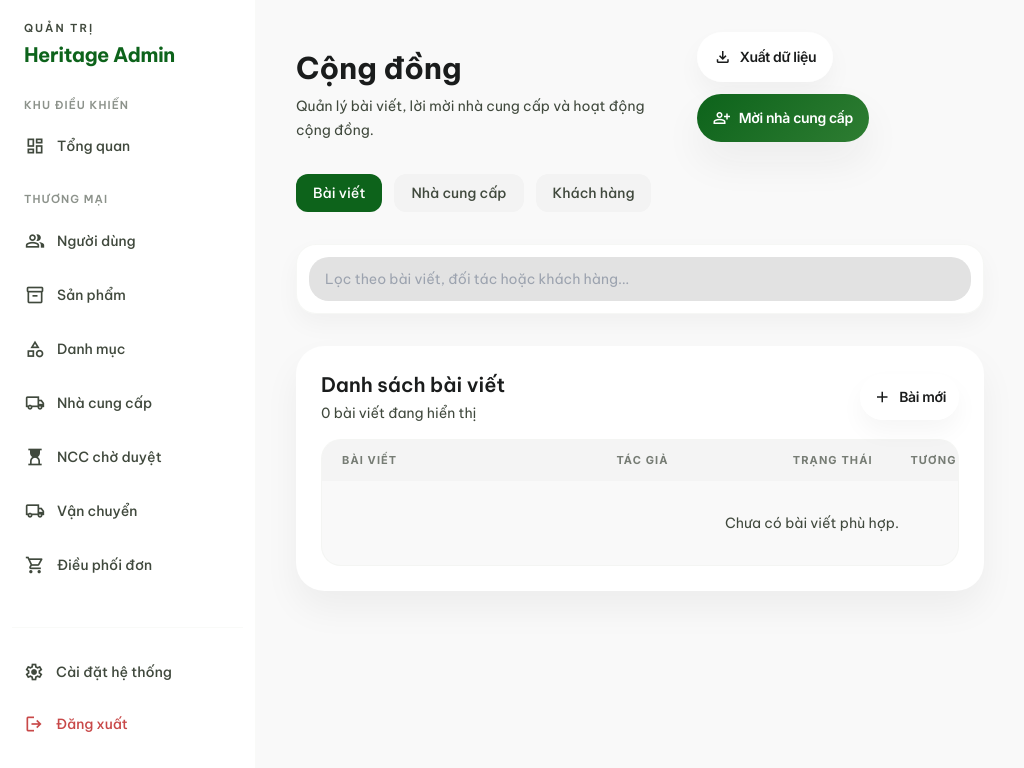
Test case: customer commerce routes › lets an admin create a post from the community page
The width and height of the screenshot is (1024, 768).
Expected: the heading "Danh sách bài viết" is shown, [321,371,505,399]
Click the button "Bài mới" at (910, 397), box [860,374,959,420]
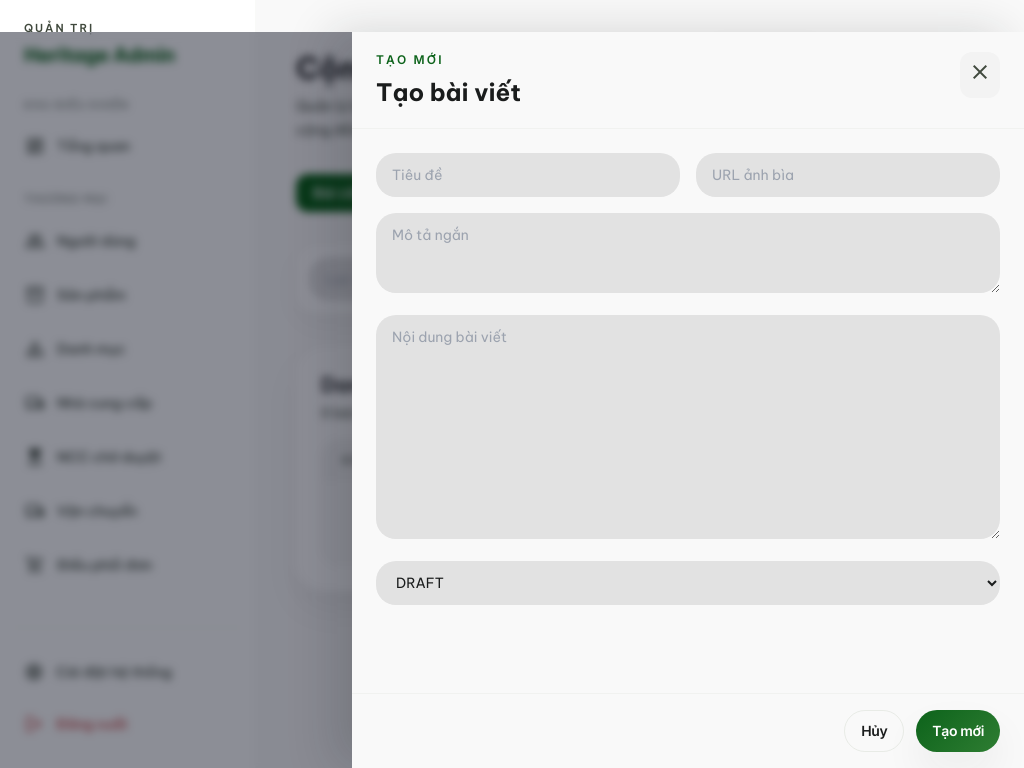
Type "Bài viết admin mới" into the field with placeholder "Tiêu đề" at (528, 175), box [376,153,680,197]
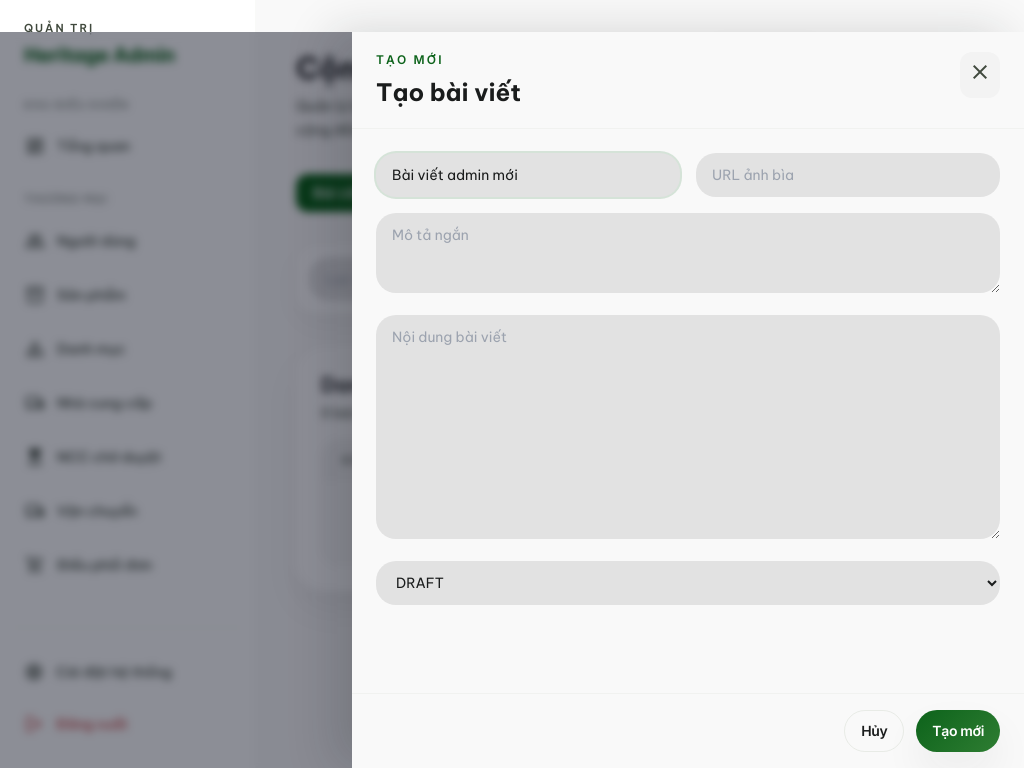
Type "Nội dung từ admin." into the text box with placeholder "Nội dung bài viết" at (688, 427), box [376,315,1000,539]
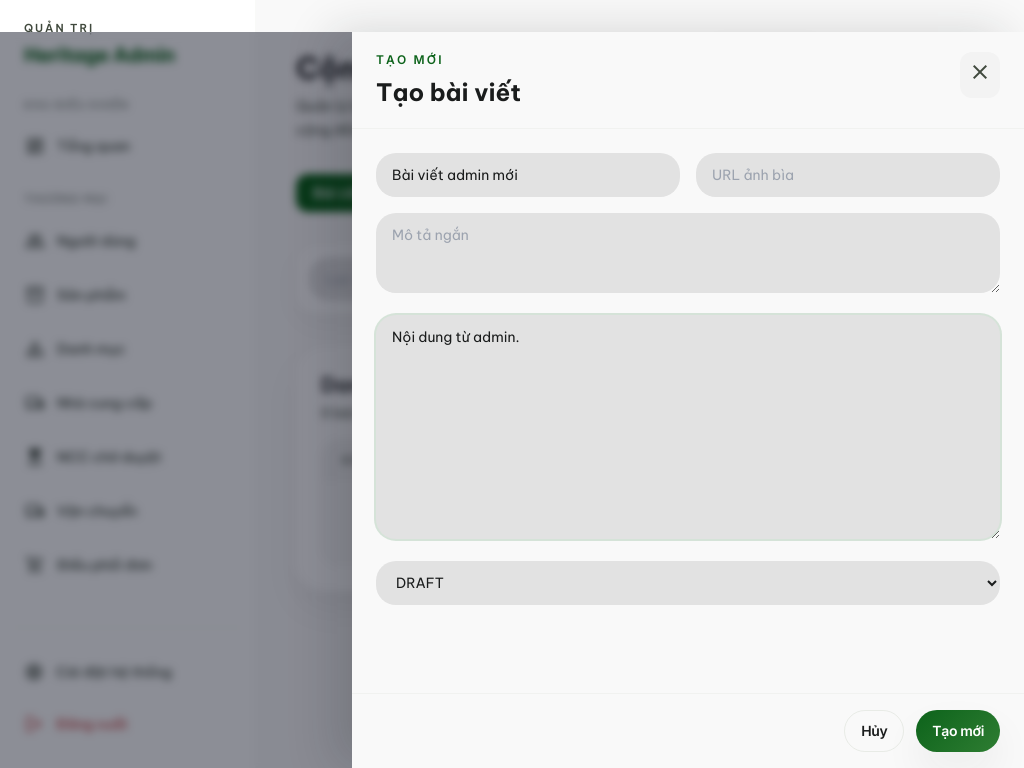
Select "PUBLISHED" in the dropdown showing "DRAFT" at (688, 583), box [376,561,1000,605]
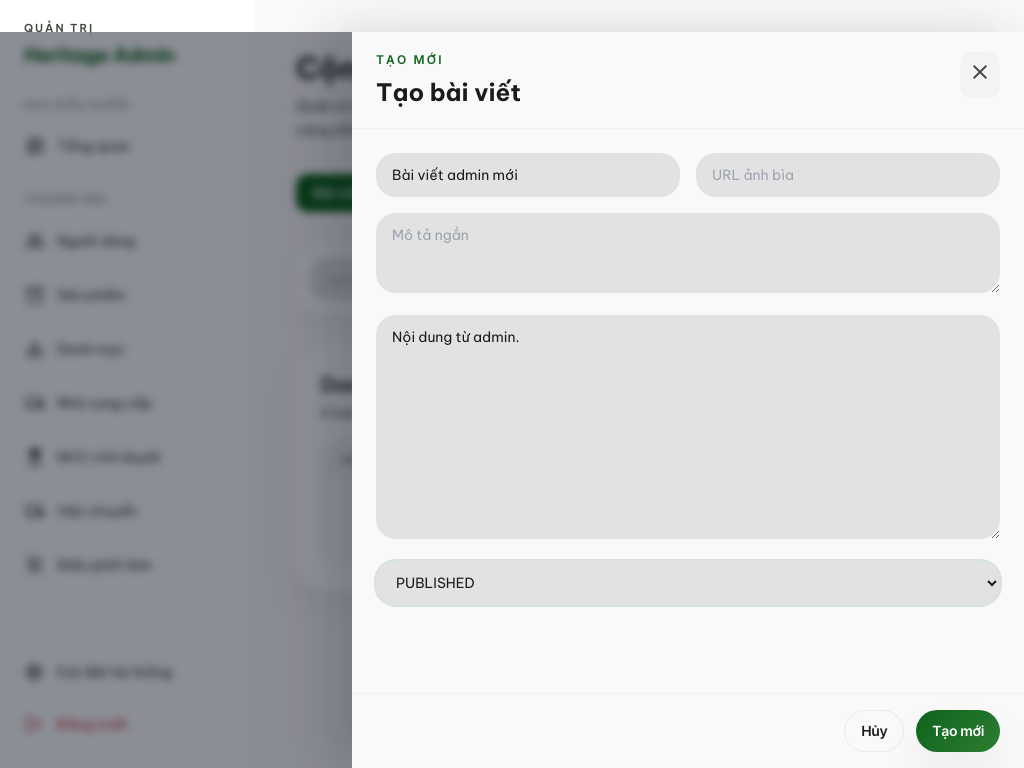
Click the button "Tạo mới" at (958, 731), box [916,710,1000,752]
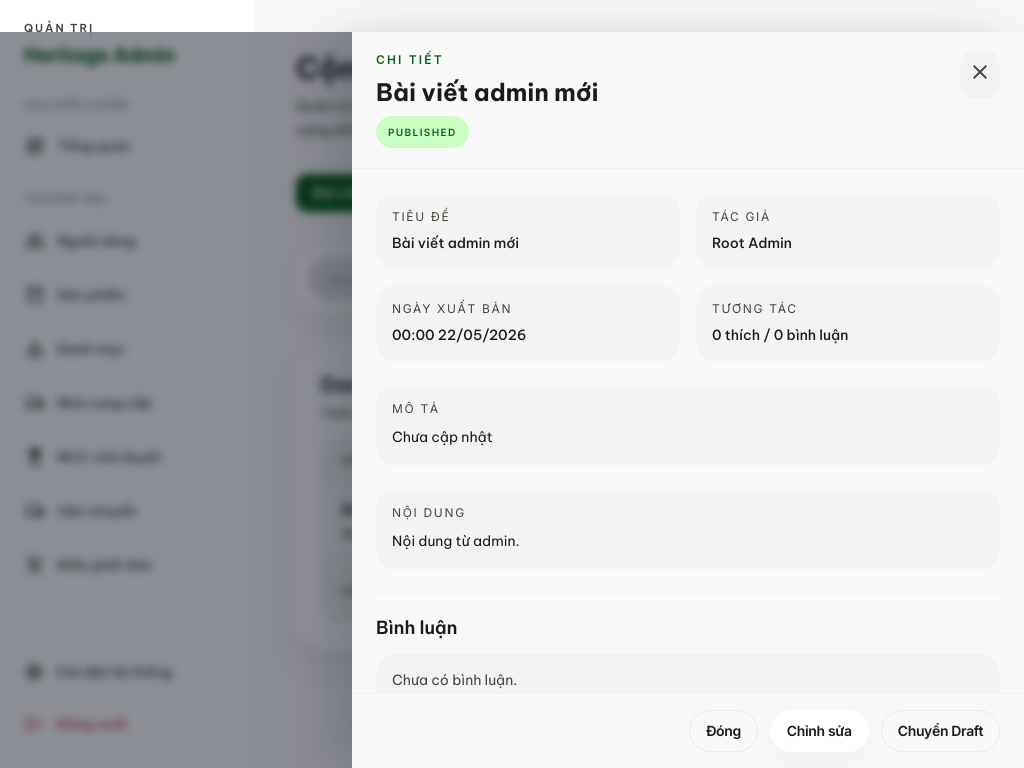
Expected: the text "Bài viết admin mới" in the row of "00:00 22/05/2026" is shown, [342,500,470,518]
